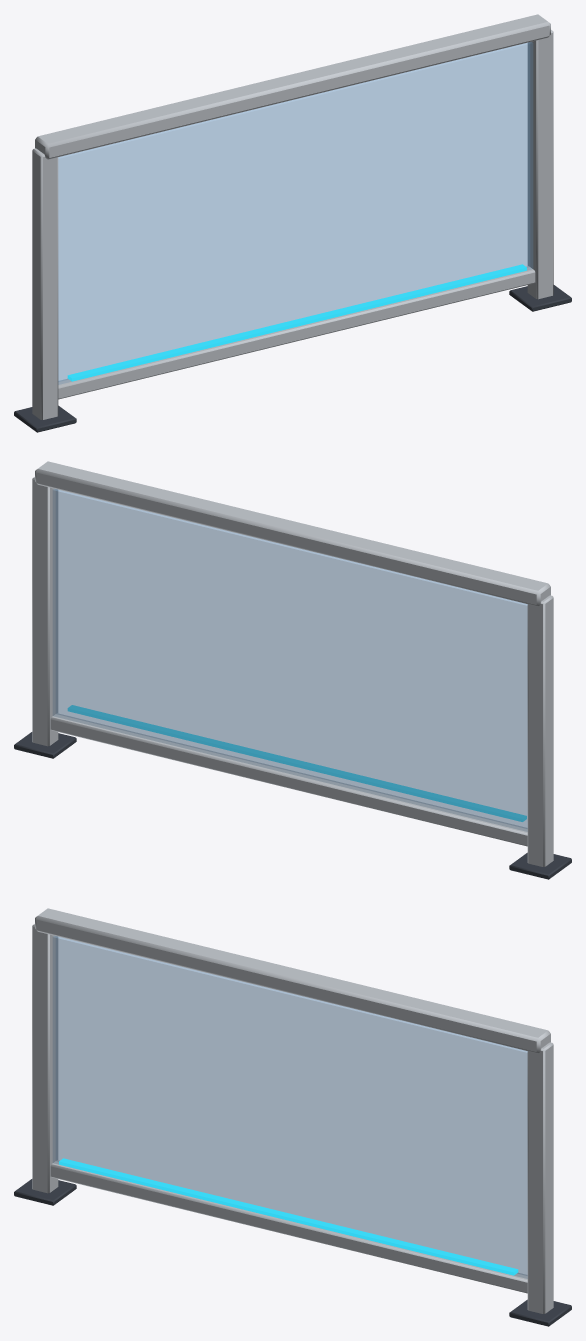
The model's file is railing_guard_glass.glb.
The picture shows the model from 3 angles, top to bottom: view 1: azimuth 30°, elevation 25°; view 2: azimuth 150°, elevation 25°; view 3: azimuth 330°, elevation 25°; orthographic projection.
Visible parts, largest first — view 1: railing_guard_glass; view 2: railing_guard_glass; view 3: railing_guard_glass.
Part boxes in pixels (left/top/right/bottom): railing_guard_glass: left=14, top=14, right=571, bottom=432; railing_guard_glass: left=14, top=461, right=571, bottom=879; railing_guard_glass: left=14, top=908, right=571, bottom=1326.
Bounding box in the file's own units: 2.12 × 1.06 × 0.16.
